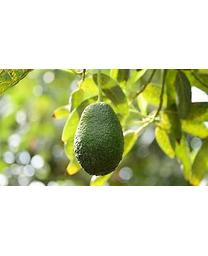avocado: (73, 102, 124, 175)
